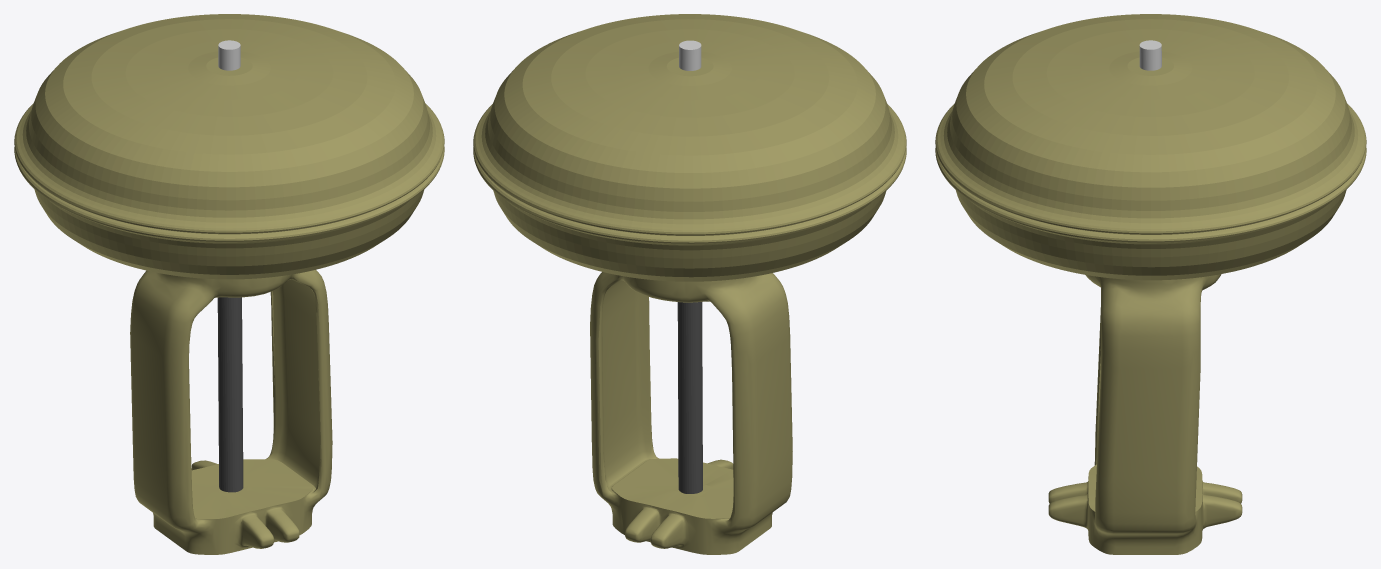
The model's file is Neumatico.fbx.
3 renders of one model, left to right at view 1: azimuth 30°, elevation 25°; view 2: azimuth 150°, elevation 25°; view 3: azimuth 270°, elevation 25°, orthographic.
Visible parts, largest first — view 1: ActuadorNeumatico; view 2: ActuadorNeumatico; view 3: ActuadorNeumatico.
Boxes of the visible parts, x1,y1,x2,y2 form: ActuadorNeumatico: (14, 14, 444, 554); ActuadorNeumatico: (473, 14, 906, 554); ActuadorNeumatico: (935, 14, 1366, 554).
Size of the model in its own units: 0.4619 by 0.5664 by 0.4619.
